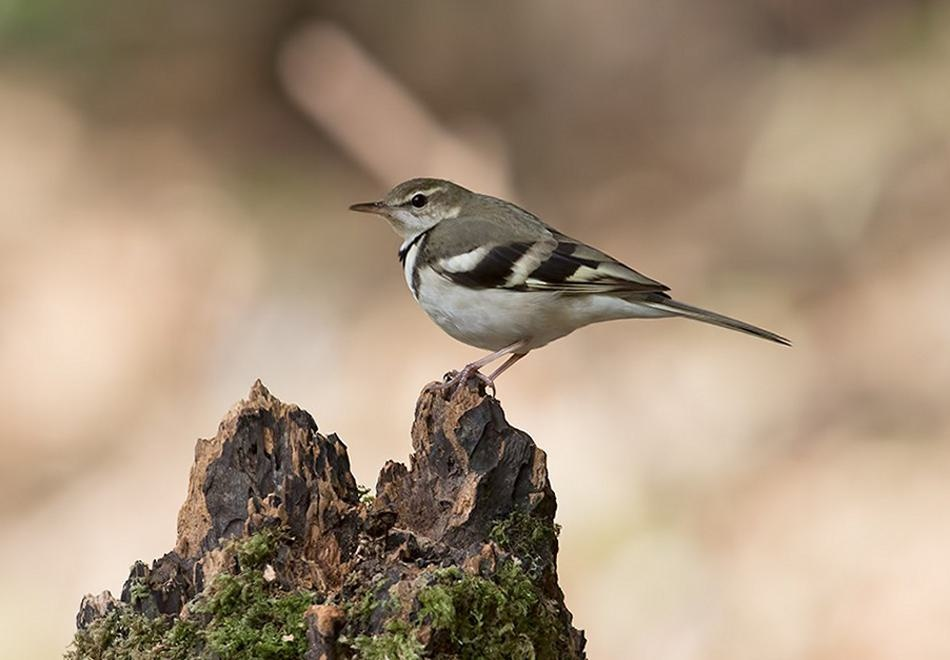wagtail: (353, 166, 760, 368)
